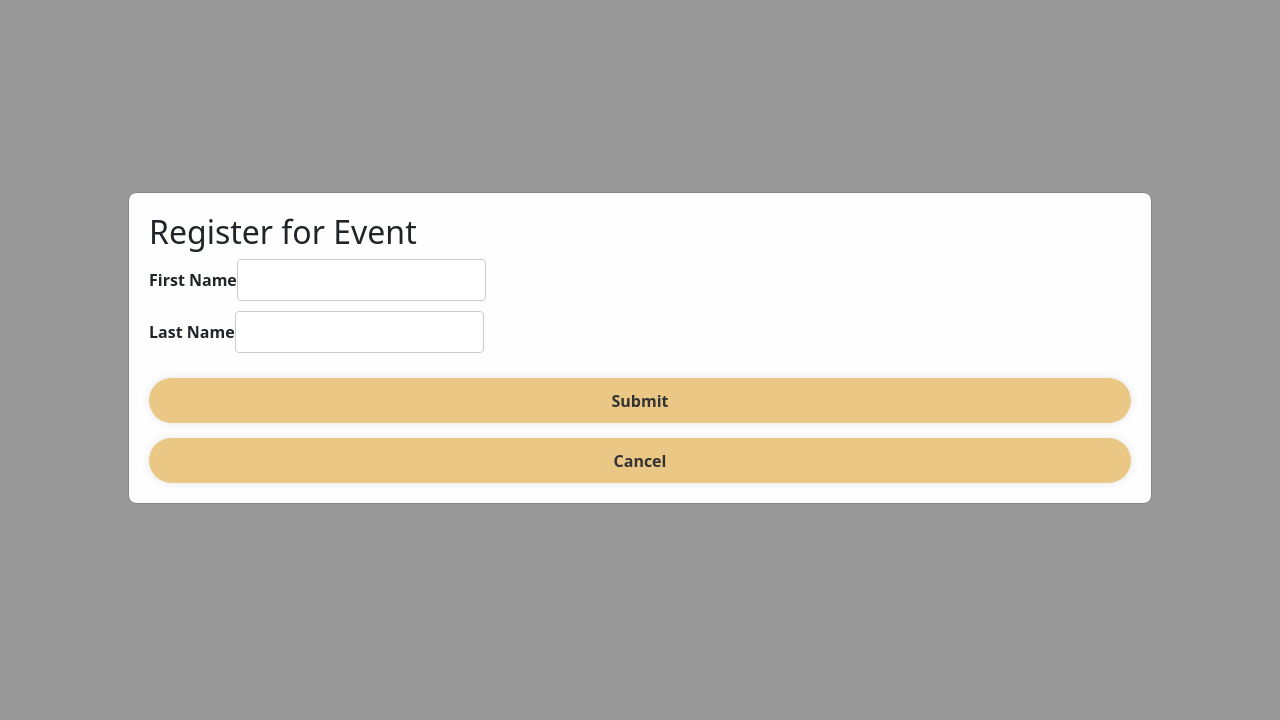
Test case: RegistrationForm Component Tests › registers user successfully
Type "John" into the field labelled "First Name".
click(361, 280); type("John")  # box [237,259,486,301]
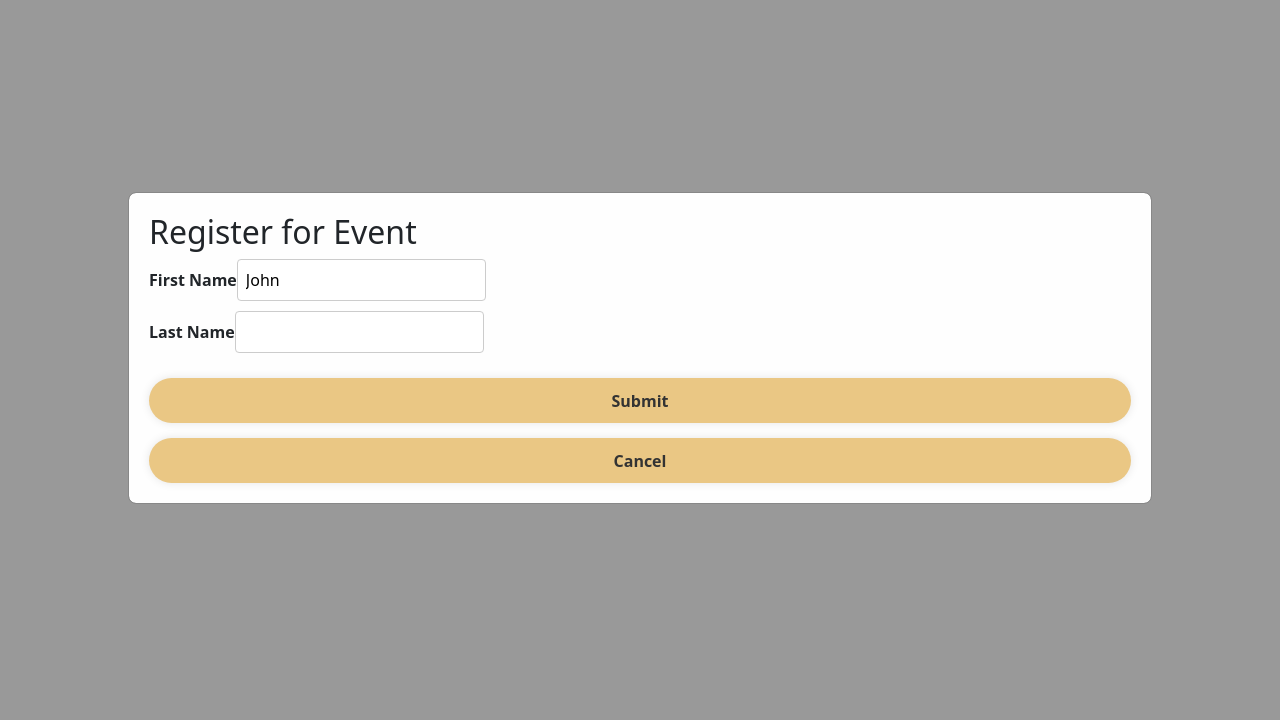
Type "Doe" into the field labelled "Last Name".
click(359, 332); type("Doe")  # box [235,311,484,353]
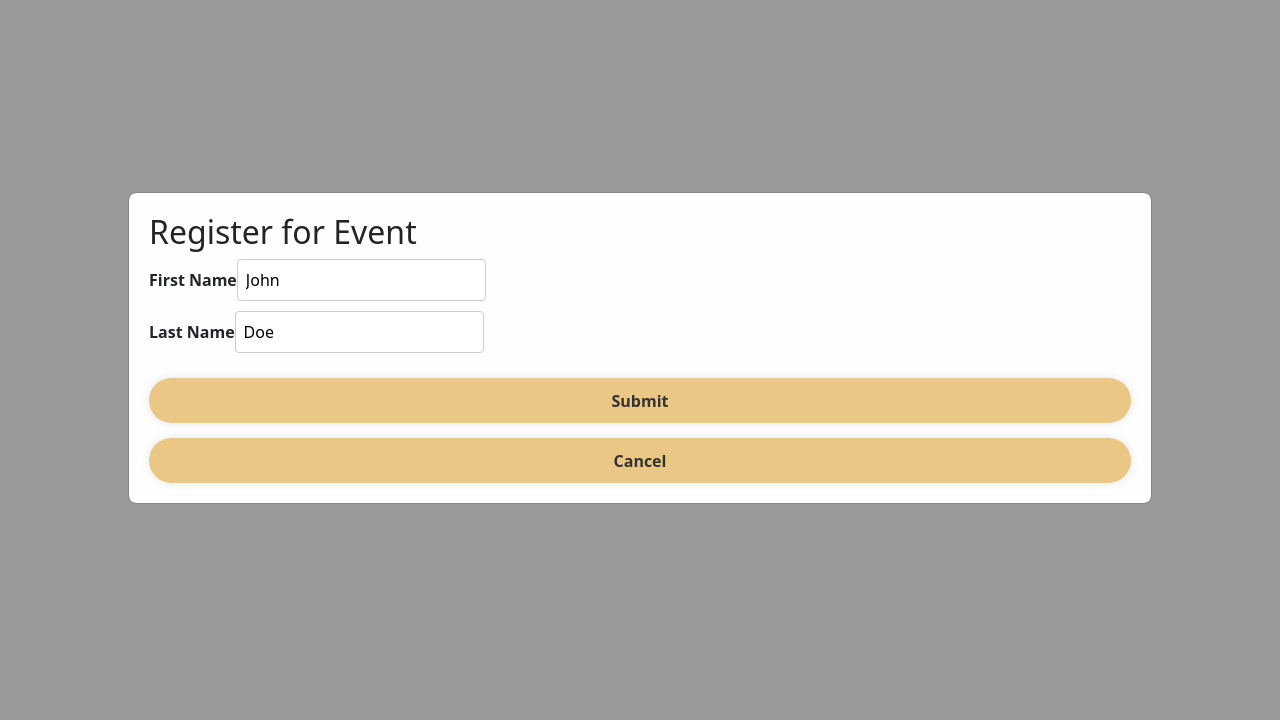
Click the button "Submit".
click(640, 401)  # box [149,378,1131,423]
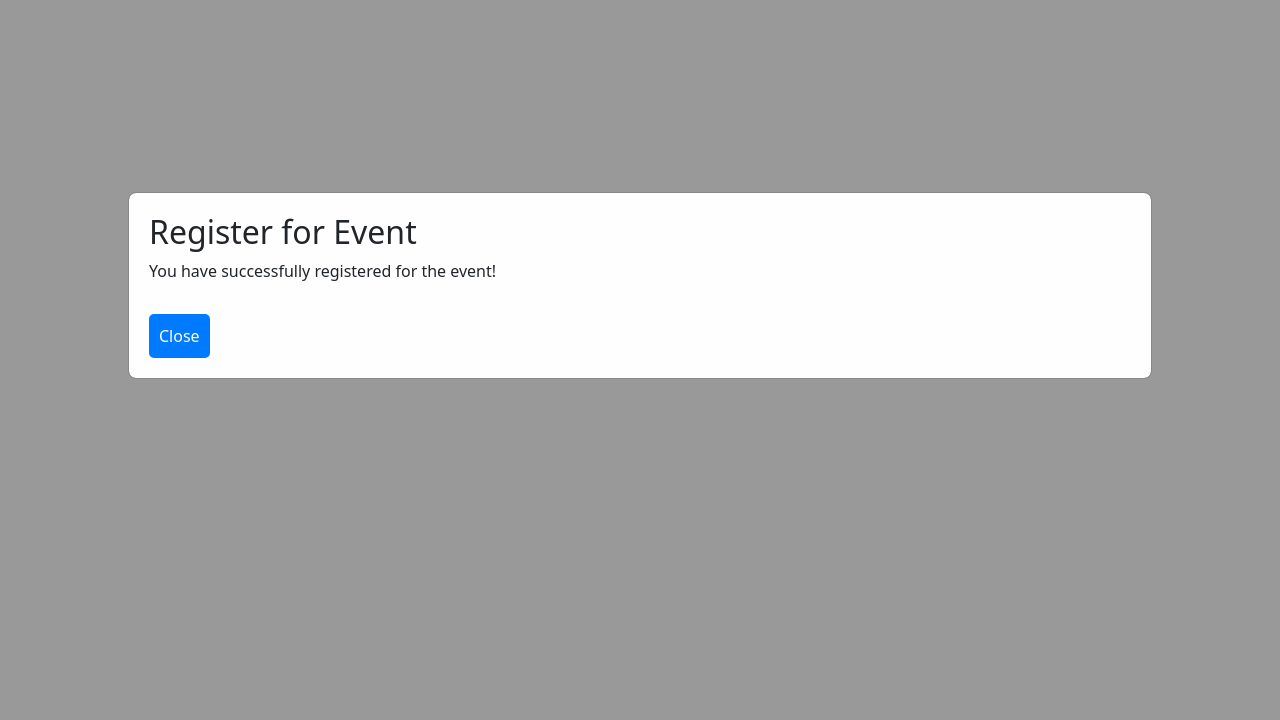
Now the text "You have successfully registered for the event!" is shown, box [149,260,496,282]
